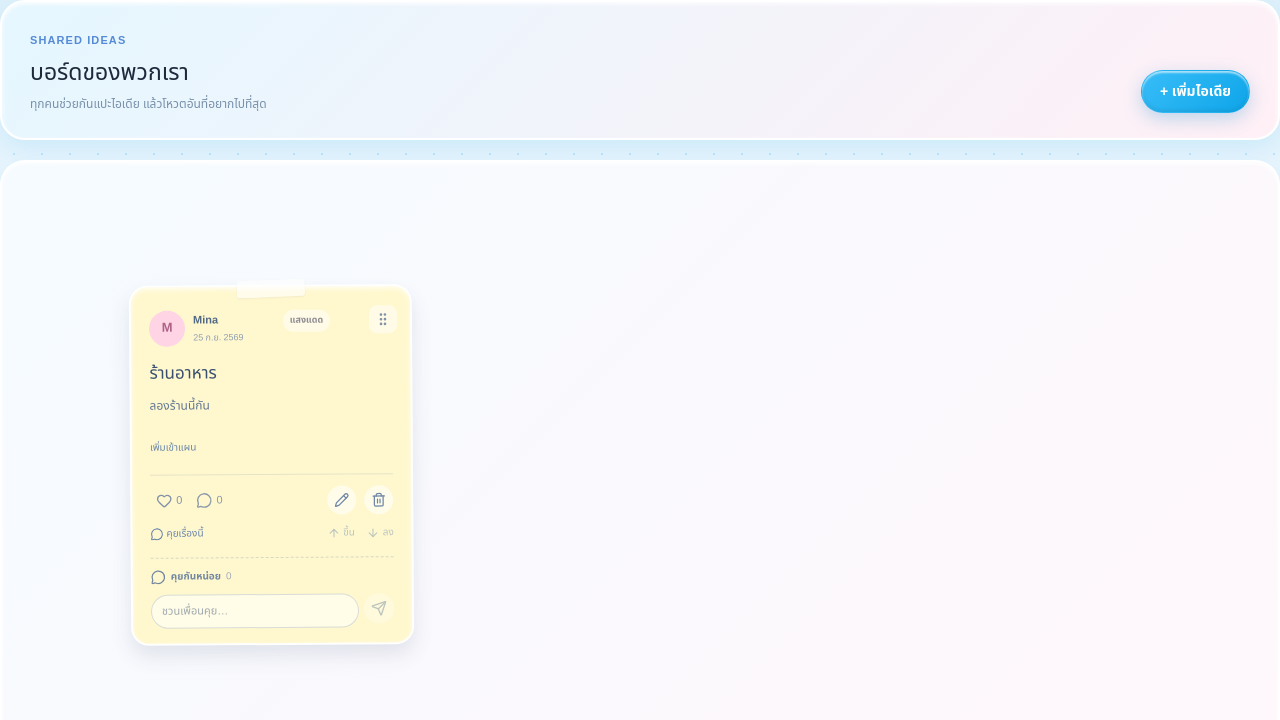
it: Board workspace draggable notes › rolls back the optimistic position when persistence fails
Expected: the heading "ร้านอาหาร" is shown, [149,360,216,387]
Press the mouse on the button named "ลากเพื่อย้าย ร้านอาหาร": (383, 319) [369,305,397,333]
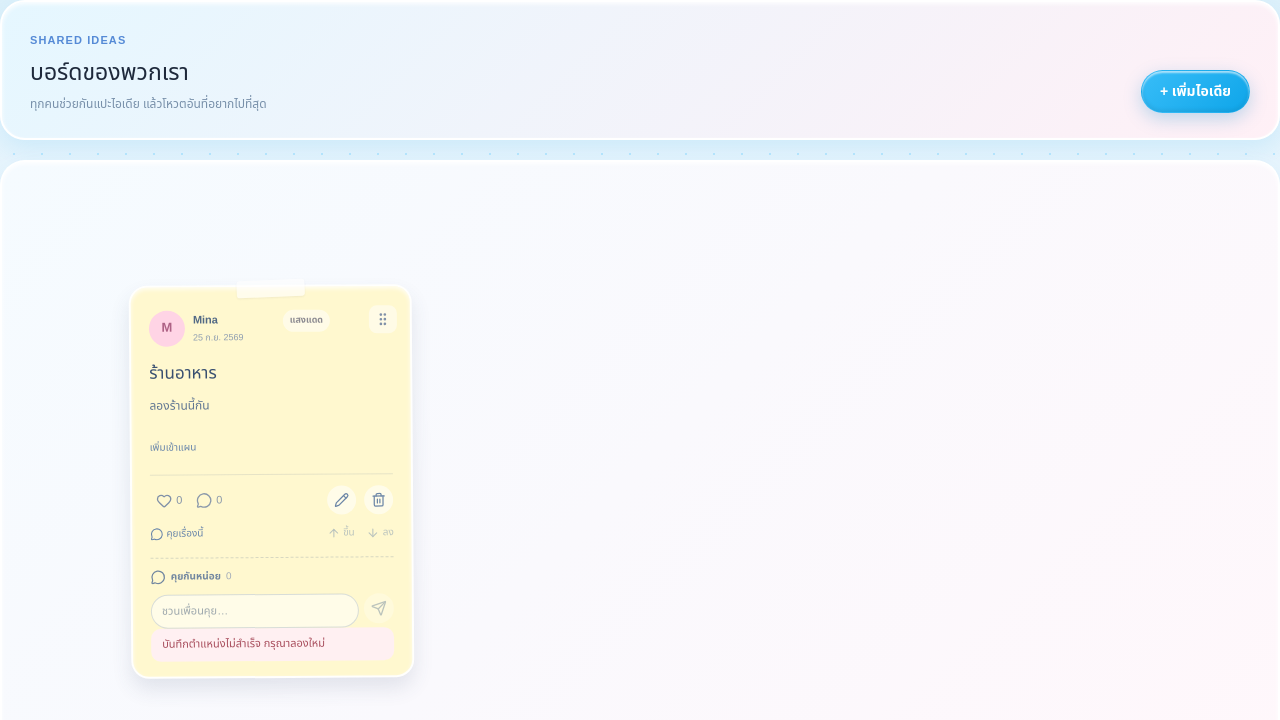
Now the message shows "บันทึกตำแหน่งไม่สำเร็จ", box [162,634,325,652]
